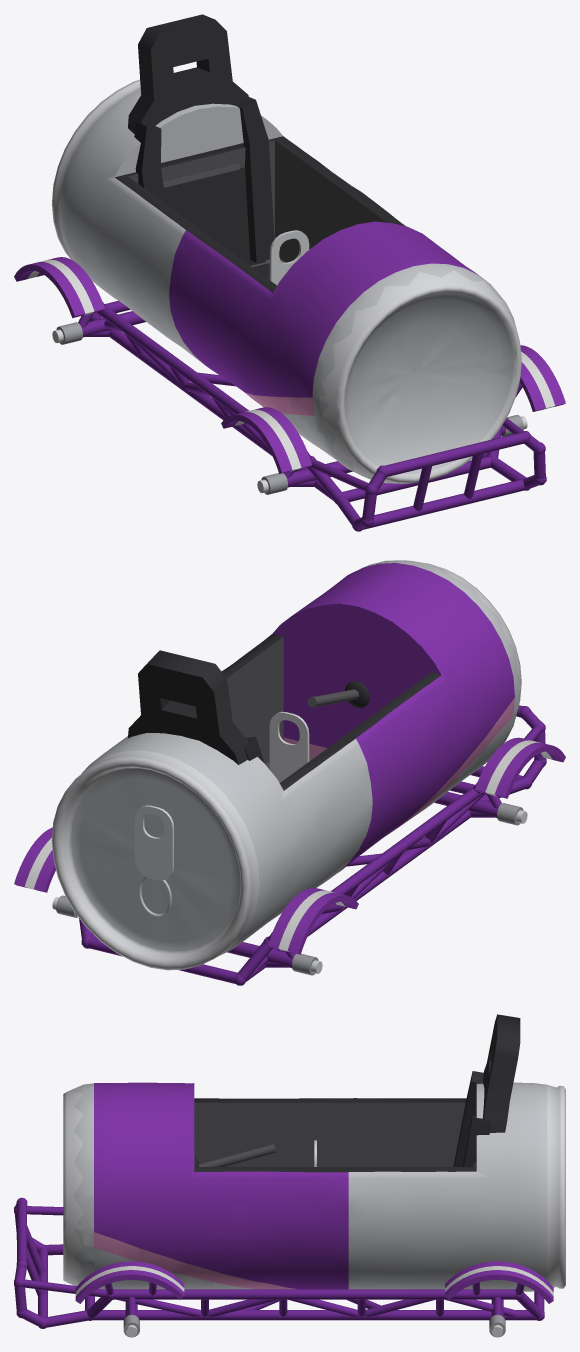
Rendered from can.glb.
3 renders of one model, top to bottom at view 1: azimuth 30°, elevation 25°; view 2: azimuth 150°, elevation 25°; view 3: azimuth 270°, elevation 25°, orthographic. The views are drawn at different scales.
Visible parts, largest first — view 1: can, can_wreck, can_sig; view 2: can, can_wreck, can_sig; view 3: can, can_wreck.
Boxes of the visible parts, x1,y1,x2,y2 form: can: [14, 14, 565, 531]; can_wreck: [14, 257, 555, 531]; can_sig: [269, 230, 309, 285]; can: [14, 560, 565, 985]; can_wreck: [24, 705, 560, 985]; can_sig: [269, 711, 309, 782]; can: [14, 1014, 565, 1331]; can_wreck: [14, 1200, 544, 1337].
Bounding box in the file's own units: 1.12 × 1.12 × 2.11.
